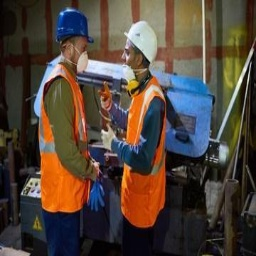helmet: (119, 20, 163, 66), (53, 4, 97, 47)
person: (36, 3, 103, 251), (106, 19, 169, 253)
vest: (40, 65, 93, 209), (121, 82, 166, 221)
